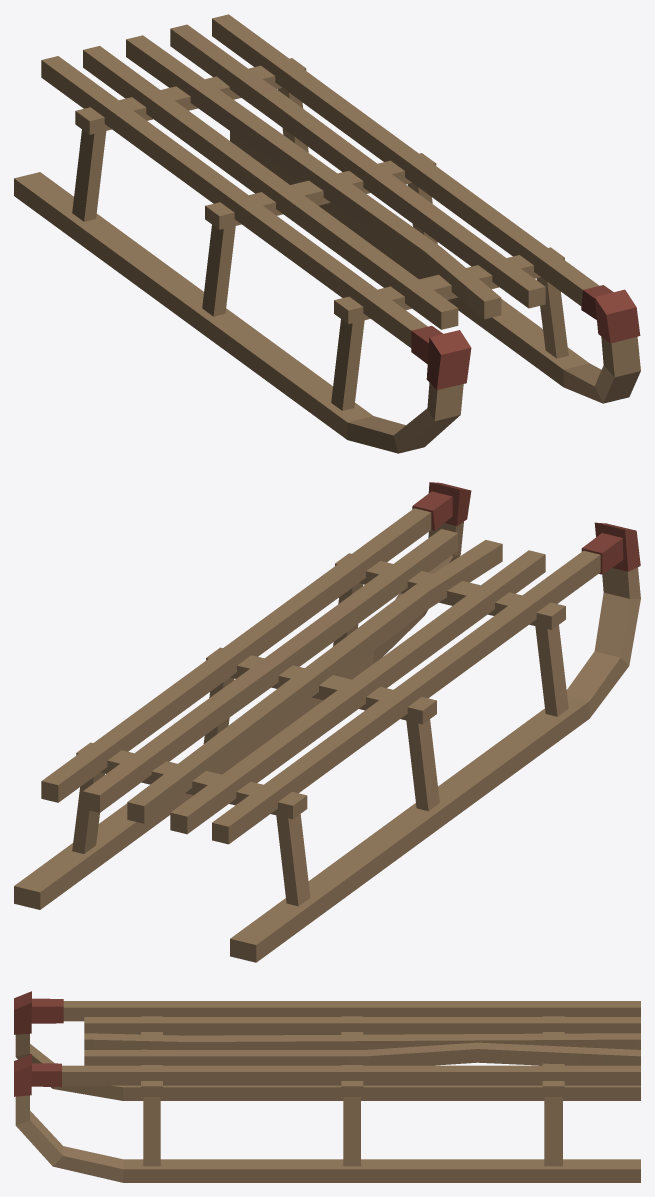
Rendered from SM_Prop_Sled_02.glb.
The picture shows the model from 3 angles, top to bottom: view 1: azimuth 30°, elevation 25°; view 2: azimuth 150°, elevation 25°; view 3: azimuth 270°, elevation 25°; orthographic projection. The views are drawn at different scales.
Visible parts, largest first — view 1: SM_Prop_Sled_02; view 2: SM_Prop_Sled_02; view 3: SM_Prop_Sled_02.
Boxes of the visible parts, <box> form: SM_Prop_Sled_02: <box>14,14,640,453</box>; SM_Prop_Sled_02: <box>14,482,640,962</box>; SM_Prop_Sled_02: <box>14,991,640,1182</box>.
Size of the model in its own units: 0.7328 by 0.4052 by 2.12.
1 material, 1 textured.
